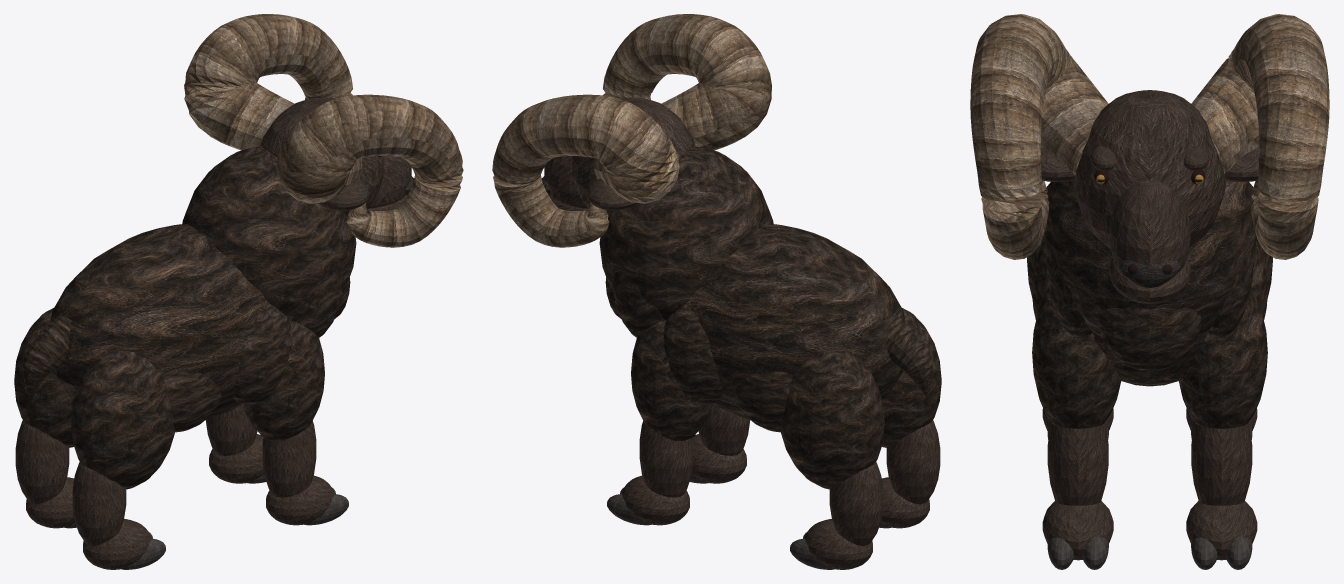
3 renders of one model, left to right at view 1: azimuth 30°, elevation 25°; view 2: azimuth 150°, elevation 25°; view 3: azimuth 270°, elevation 25°, orthographic. The views are drawn at different scales.
Visible parts, largest first — view 1: trunk_wool, left_curled_horn_horn, neck_wool, right_curled_horn_horn, hind_left_upper_wool, fore_left_upper_wool, wool_lock_3_wool, hind_right_upper_wool, hind_left_lower_face, hind_right_lower_face, fore_left_lower_face, wool_lock_5_wool (+12 smaller); view 2: trunk_wool, right_curled_horn_horn, neck_wool, left_curled_horn_horn, hind_right_upper_wool, fore_right_upper_wool, wool_lock_4_wool, hind_left_upper_wool, hind_left_lower_face, hind_right_lower_face, fore_right_lower_face, wool_lock_6_wool (+12 smaller); view 3: right_curled_horn_horn, left_curled_horn_horn, cranium_face, neck_wool, fore_left_upper_wool, fore_right_upper_wool, muzzle_face, wool_lock_2_wool, fore_left_lower_face, fore_right_lower_face, fore_left_foot_face, fore_right_foot_face (+15 smaller).
Part boxes in pixels (x1,y1,x2,y2): trunk_wool: (50,224,280,419); left_curled_horn_horn: (276,94,463,247); neck_wool: (182,146,356,320); right_curled_horn_horn: (184,14,352,150); hind_left_upper_wool: (71,351,175,489); fore_left_upper_wool: (243,320,324,440); wool_lock_3_wool: (233,308,292,404); hind_right_upper_wool: (14,308,73,447); hind_left_lower_face: (72,462,126,545); hind_right_lower_face: (15,420,69,504); fore_left_lower_face: (262,421,316,497); wool_lock_5_wool: (163,371,221,432); trunk_wool: (675,224,905,419); right_curled_horn_horn: (492,94,679,247); neck_wool: (599,146,773,320); left_curled_horn_horn: (603,14,771,150); hind_right_upper_wool: (780,351,884,489); fore_right_upper_wool: (631,320,712,440); wool_lock_4_wool: (663,308,722,404); hind_left_upper_wool: (882,308,941,447); hind_left_lower_face: (886,420,940,504); hind_right_lower_face: (829,462,883,545); fore_right_lower_face: (639,421,693,497); wool_lock_6_wool: (734,371,792,432); right_curled_horn_horn: (1191,14,1329,259); left_curled_horn_horn: (970,14,1108,259); cranium_face: (1074,90,1225,248); neck_wool: (1043,180,1256,338); fore_left_upper_wool: (1032,288,1121,428); fore_right_upper_wool: (1178,288,1267,428); muzzle_face: (1109,180,1190,272); wool_lock_2_wool: (1098,307,1201,371); fore_left_lower_face: (1047,422,1108,505); fore_right_lower_face: (1191,422,1252,505); fore_left_foot_face: (1042,501,1113,560); fore_right_foot_face: (1186,501,1257,560).
Size of the model in its own units: 92.88 by 100 by 59.3.
3 materials, 3 textured.
